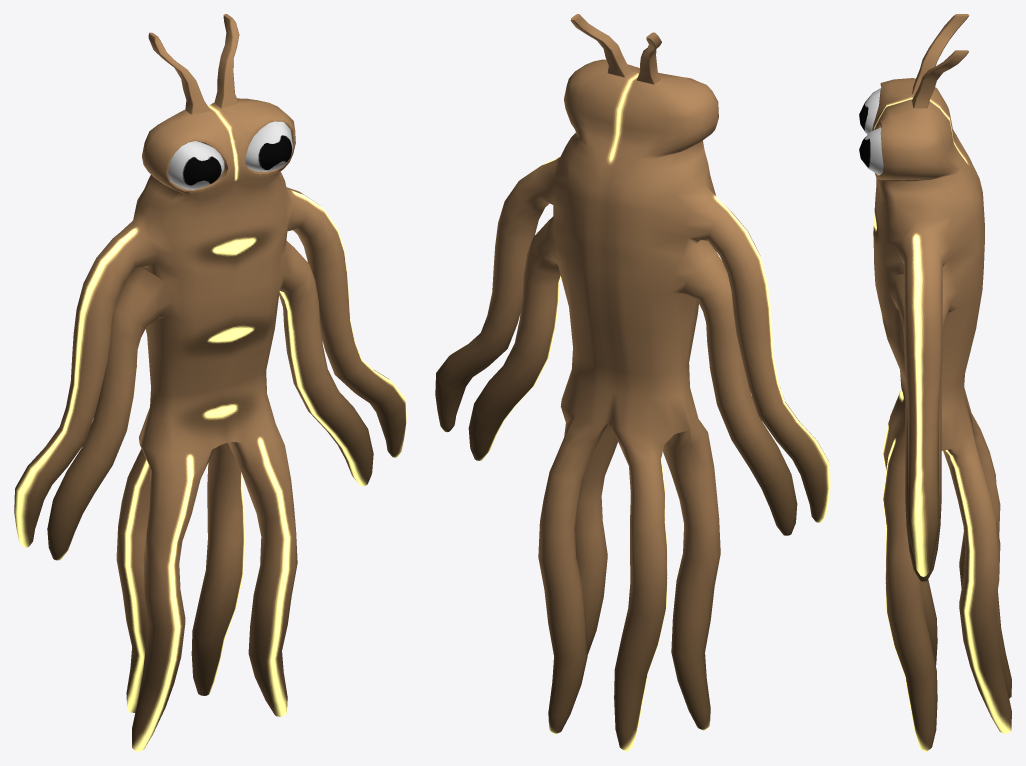
Rendered from Character.fbx.
3 views of the same model, side by side, from view 1: azimuth 30°, elevation 25°; view 2: azimuth 150°, elevation 25°; view 3: azimuth 270°, elevation 25° (orthographic). The views are drawn at different scales.
Visible parts, largest first — view 1: Character; view 2: Character; view 3: Character.
Boxes of the visible parts, box(x1,y1,x2,y2) form: Character: box(14, 14, 406, 751); Character: box(435, 14, 830, 751); Character: box(859, 14, 1011, 751).
Size of the model in its own units: 14.56 by 24.91 by 5.04.
Materials: 1 (1 with a texture image).
